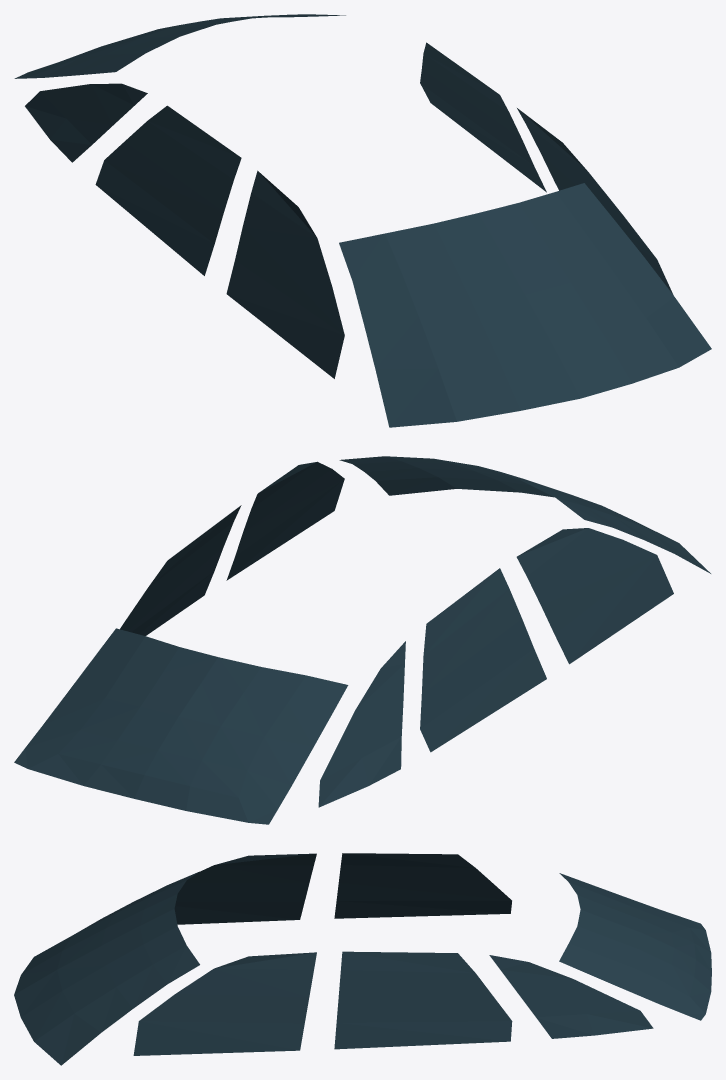
File: glass.obj
The picture shows the model from 3 angles, top to bottom: view 1: azimuth 30°, elevation 25°; view 2: azimuth 150°, elevation 25°; view 3: azimuth 270°, elevation 25°; orthographic projection. The views are drawn at different scales.
Parts seen in each view (by area): view 1: CampingHatchback_glass; view 2: CampingHatchback_glass; view 3: CampingHatchback_glass.
Boxes of the visible parts, bbox=[...] form: CampingHatchback_glass: bbox=[14, 14, 711, 427]; CampingHatchback_glass: bbox=[14, 456, 710, 824]; CampingHatchback_glass: bbox=[14, 853, 711, 1065].
Bounding box in the file's own units: 1.27 × 0.4618 × 2.87.
